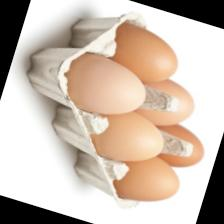egg: (30, 39, 152, 127), (55, 92, 170, 172), (80, 12, 185, 91), (82, 138, 185, 213)
